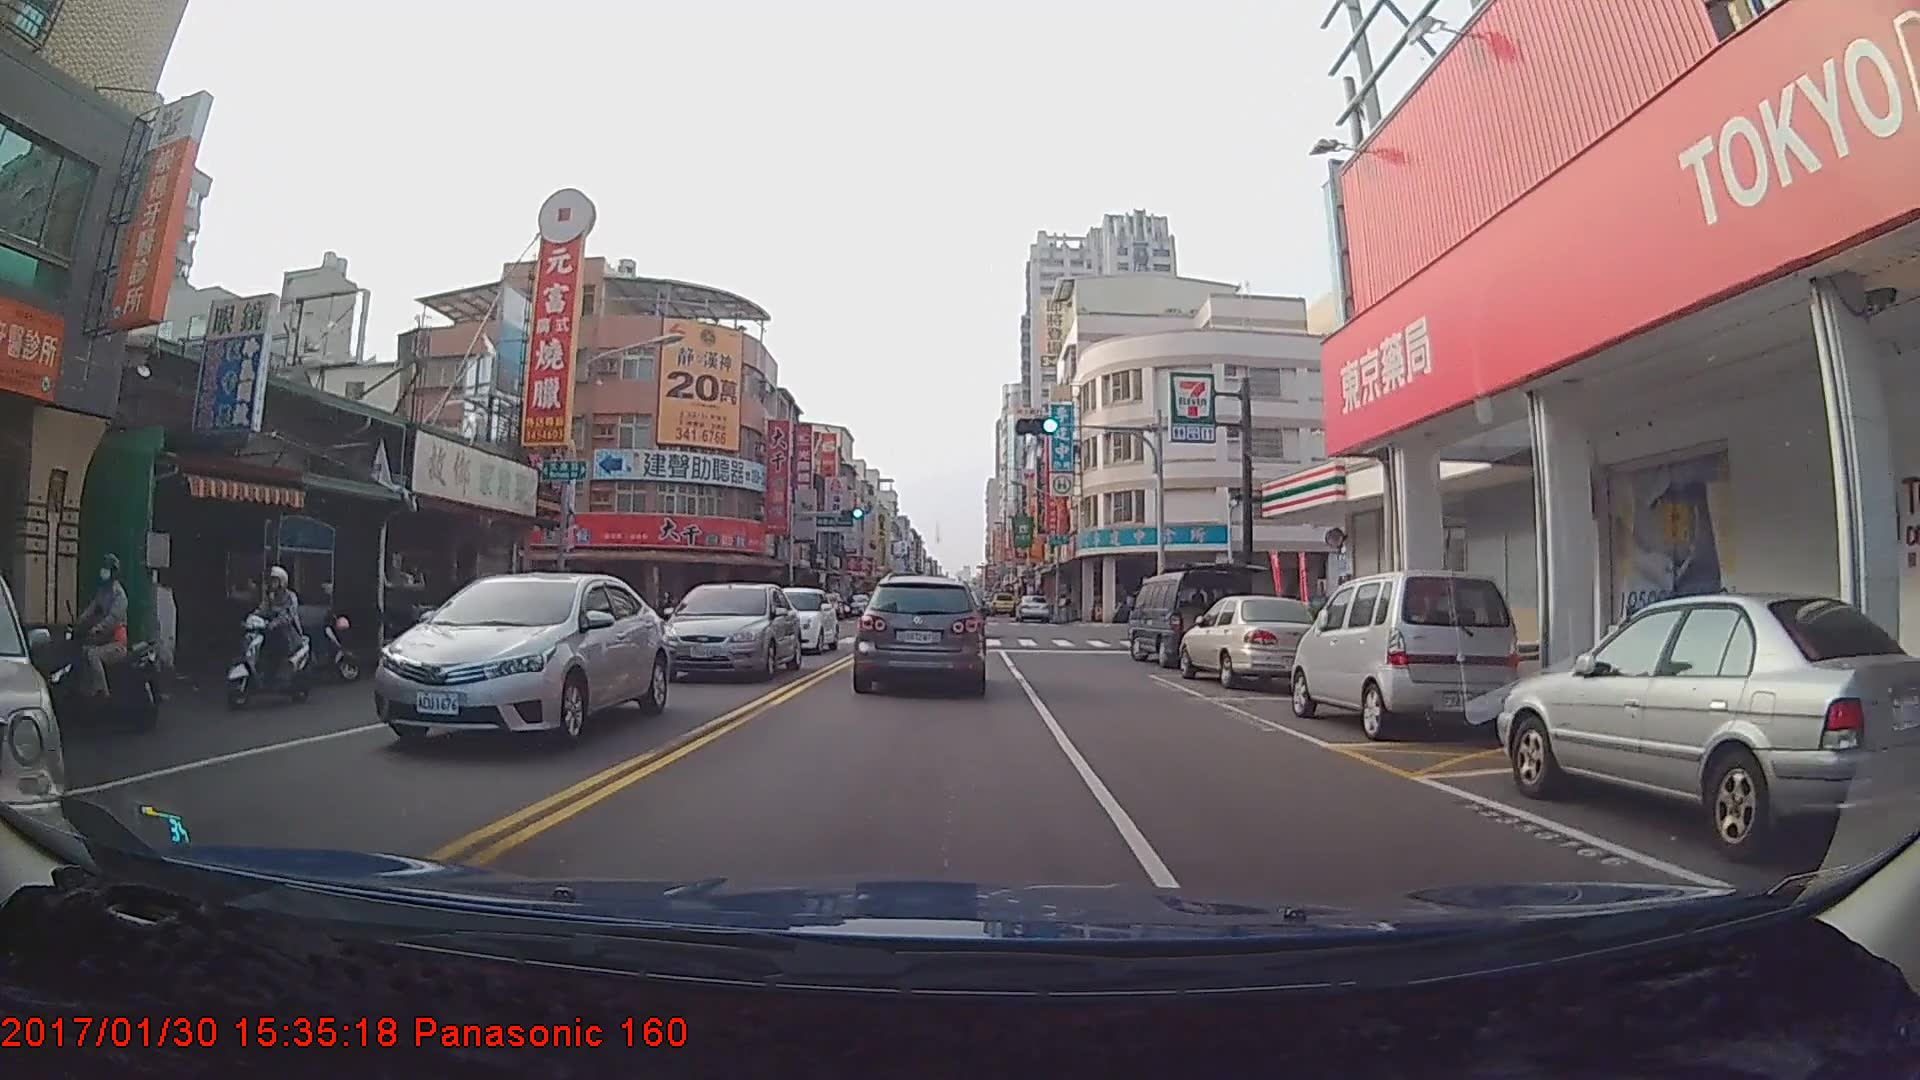rider: (55, 551, 166, 731), (217, 558, 319, 705)
vehicle: (1501, 590, 1904, 856), (365, 569, 674, 762), (1293, 568, 1514, 740), (856, 573, 985, 694), (654, 580, 801, 682), (1179, 594, 1318, 689), (1128, 571, 1252, 663), (750, 584, 840, 653), (1012, 593, 1051, 621), (989, 592, 1015, 615)
